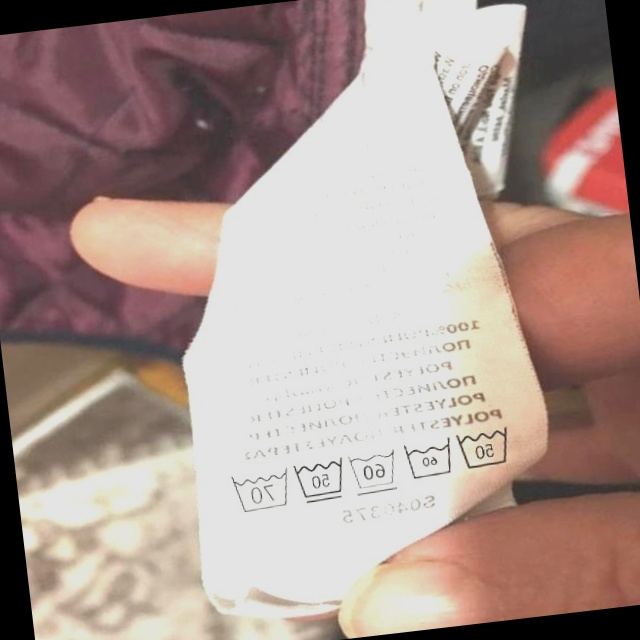50C: (451, 418, 518, 475), (289, 453, 350, 508)
60C: (343, 444, 401, 498), (398, 433, 457, 485)
70C: (224, 465, 293, 517)
